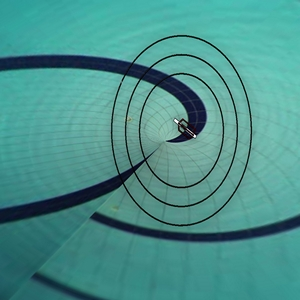circle: (96, 28, 263, 233)
submarine: (166, 111, 203, 147)
